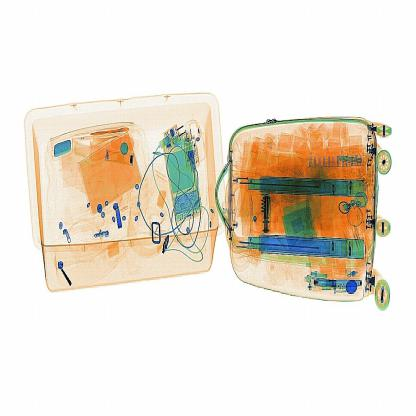scissors: (262, 192, 274, 235)
